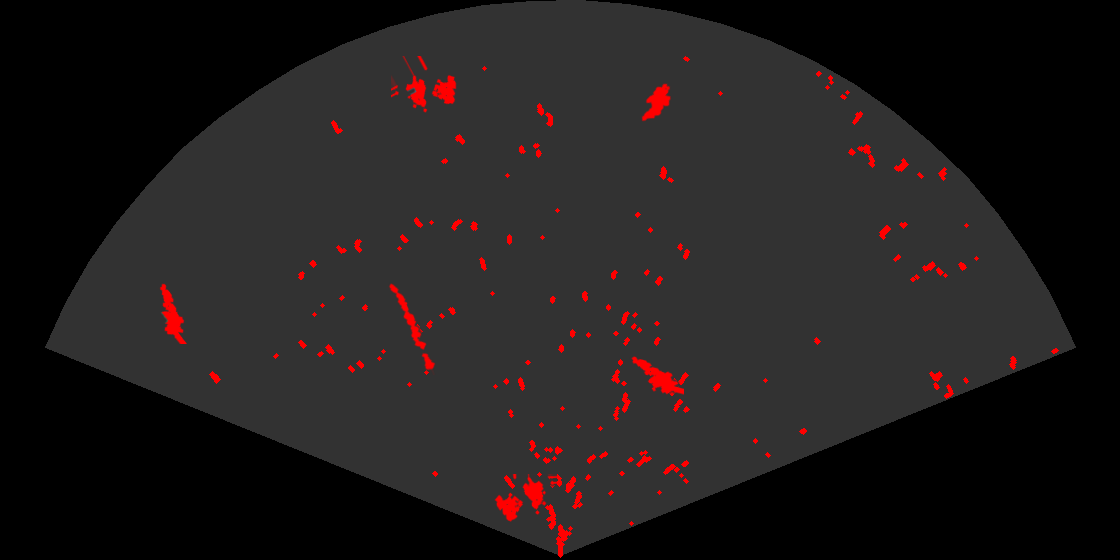AUV: (640, 82, 673, 123)
cage: (391, 56, 458, 114), (493, 474, 557, 523)
chain: (387, 282, 437, 375)
frogman: (629, 355, 684, 396), (158, 282, 188, 344)
